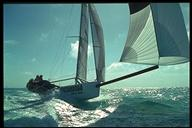sailboat: (23, 4, 189, 108)
sky: (4, 5, 63, 72)
water: (6, 104, 189, 125)
